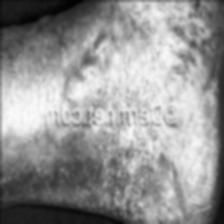Non-Cancerous Skin Condition: (0, 141, 217, 208), (120, 0, 216, 94), (0, 31, 109, 100)
